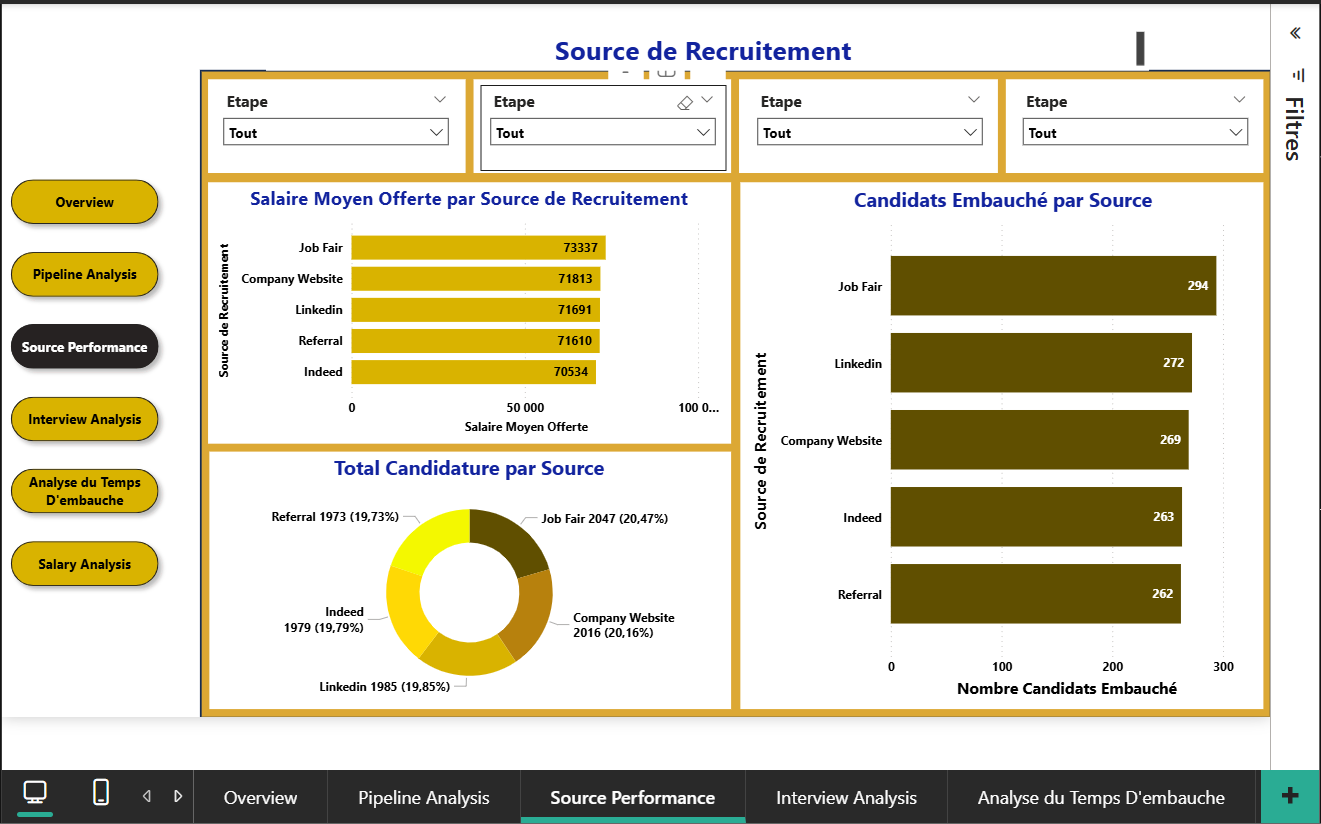

This screenshot's page, from the dashboard's own definition file:
{"tool":"powerbi","page":{"name":"Source Performance","canvas":[1280,720],"ordinal":2},"visuals":[{"type":"slicer","fields":{"Values":["Sheet1.Etape"]},"box":[214.1,81.5,247.6,86.3],"z":0},{"type":"slicer","fields":{"Values":["Sheet1.Etape"]},"box":[483,81.5,247.6,86.3],"z":1000},{"type":"slicer","fields":{"Values":["Sheet1.Etape"]},"box":[752,81.5,247.6,86.3],"z":2000},{"type":"slicer","fields":{"Values":["Sheet1.Etape"]},"box":[1020.9,81.5,247.6,86.3],"z":3000},{"type":"clusteredBarChart","fields":{"Y":["Mesures.Salaire Moyen Offerte"],"Category":["Sheet1.Source de Recruitement"]},"box":[214.1,183.7,516,255.6],"z":4000},{"type":"clusteredBarChart","title":" Candidats Embauché par Source ","fields":{"Category":["Sheet1.Source de Recruitement"],"Y":["Mesures.Nombre Candidats Embauché"]},"box":[752.5,183.7,516,522.4],"z":5000},{"type":"donutChart","title":" Total Candidature par Source ","fields":{"Y":["Mesures.Nombre Total Candidature"],"Category":["Sheet1.Source de Recruitement"]},"box":[214.1,453.7,516,252.4],"z":6000},{"type":"pageNavigator","box":[0,167.8,167.8,432],"z":6001},{"type":"textbox","box":[266.8,22.4,891.5,44.7],"z":6002}]}

Visuals, with their boxes on the page's 1280x720 design canvas (x1, y1, x2, y2). These are canvas units, not pixel positions in the 1321x824 screenshot, which may show the page scaled, cropped or inside an application window:
slicer - Sheet1.Etape: box=[214, 82, 462, 168]
slicer - Sheet1.Etape: box=[483, 82, 731, 168]
slicer - Sheet1.Etape: box=[752, 82, 1000, 168]
slicer - Sheet1.Etape: box=[1021, 82, 1268, 168]
clusteredBarChart - Mesures.Salaire Moyen Offerte x Sheet1.Source de Recruitement: box=[214, 184, 730, 439]
" Candidats Embauché par Source " clusteredBarChart: box=[752, 184, 1268, 706]
" Total Candidature par Source " donutChart: box=[214, 454, 730, 706]
pageNavigator: box=[0, 168, 168, 600]
textbox: box=[267, 22, 1158, 67]
